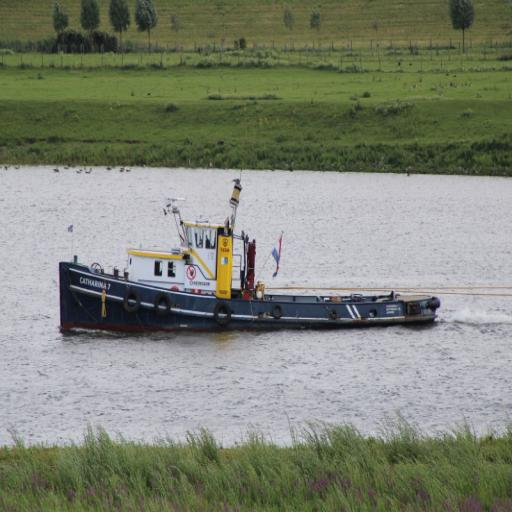tugboat: (57, 178, 448, 352)
